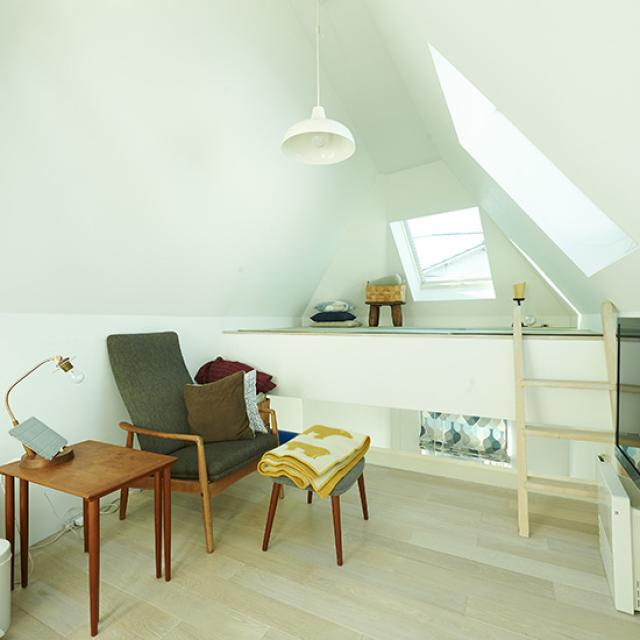vintage chair: (104, 326, 283, 452)
vintage desk: (1, 439, 173, 640)
